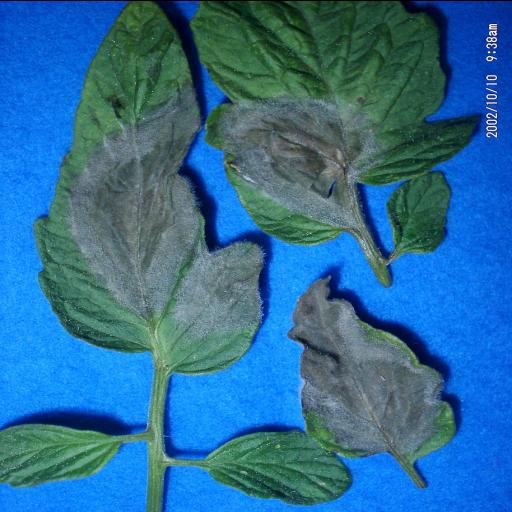disease_tomato: (34, 0, 274, 374), (206, 0, 487, 248), (285, 270, 459, 460)
